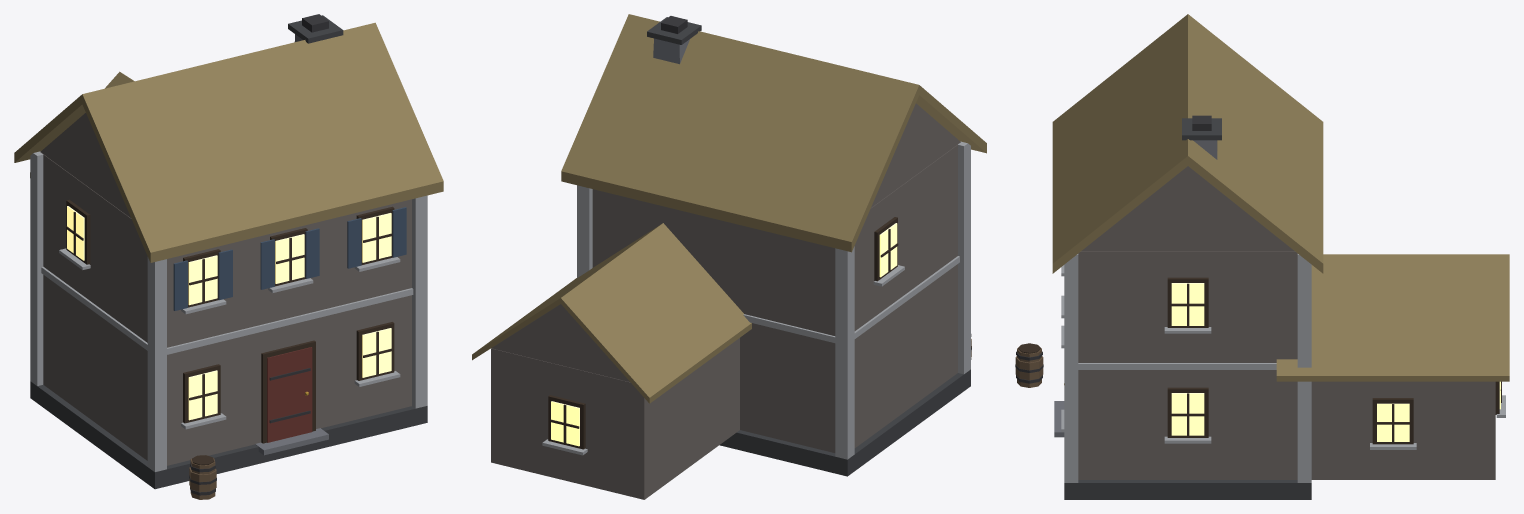
File: bree_house_stone_2.glb
3 views of the same model, side by side, from view 1: azimuth 30°, elevation 25°; view 2: azimuth 150°, elevation 25°; view 3: azimuth 270°, elevation 25° (orthographic).
Visible parts, largest first — view 1: bree_house_stone_2; view 2: bree_house_stone_2; view 3: bree_house_stone_2.
Part boxes in pixels (left/top/right/bottom): bree_house_stone_2: left=14, top=14, right=443, bottom=499; bree_house_stone_2: left=472, top=14, right=986, bottom=499; bree_house_stone_2: left=1015, top=14, right=1509, bottom=499.
Size of what is drawn, in the model's own units: 7.2 by 8.51 by 10.61.
